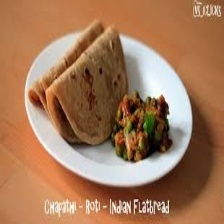roti: (26, 17, 128, 140)
